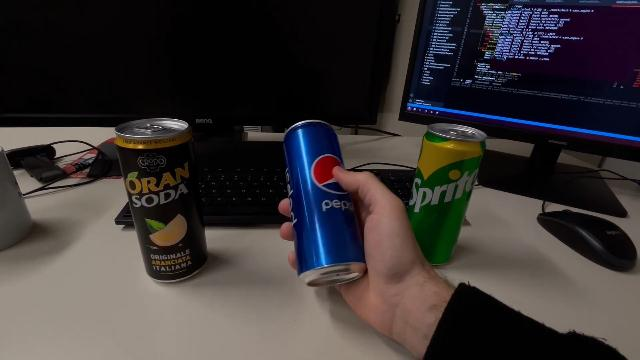OranSoda: (115, 116, 212, 286)
Pepsi: (280, 116, 368, 290)
Sprite: (404, 121, 488, 269)
